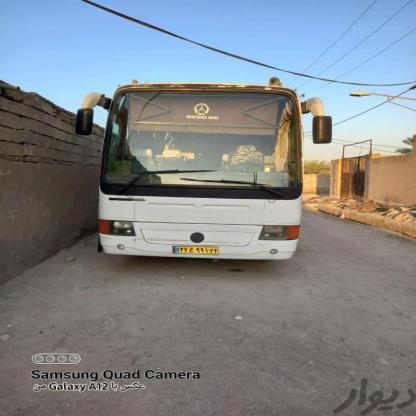Bus: (85, 73, 323, 269)
